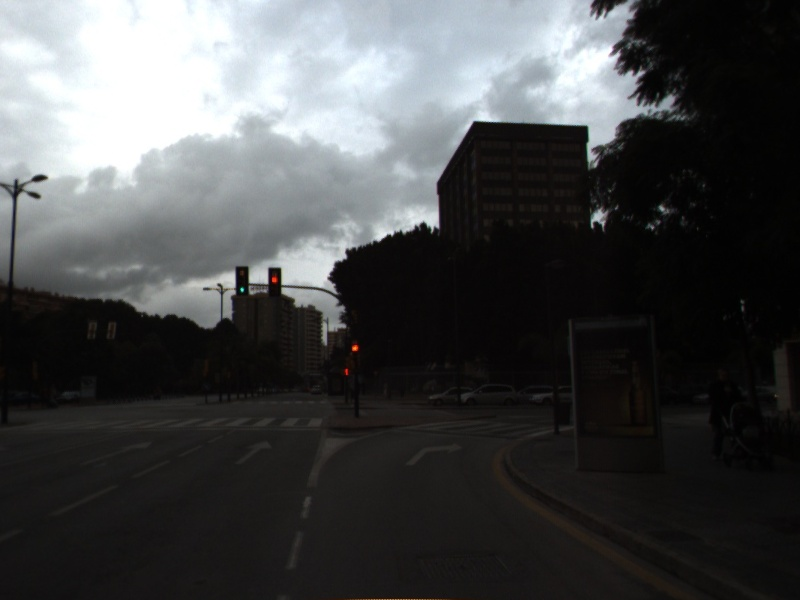RIGHT: (403, 441, 465, 468)
STRAIGHT: (78, 439, 154, 467), (232, 439, 274, 466)
